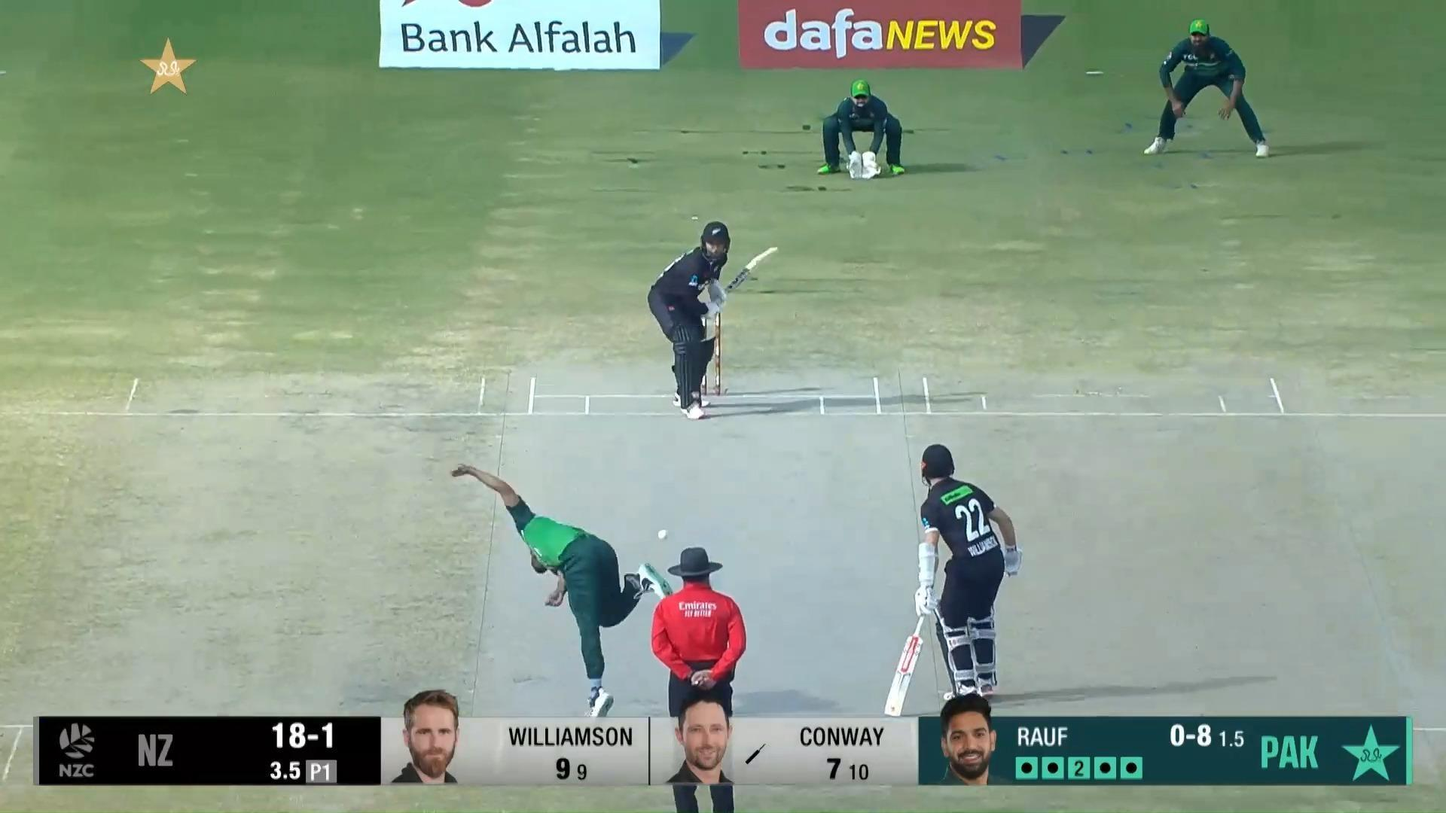BM 1: (647, 221, 778, 420)
BO: (448, 459, 675, 720)
